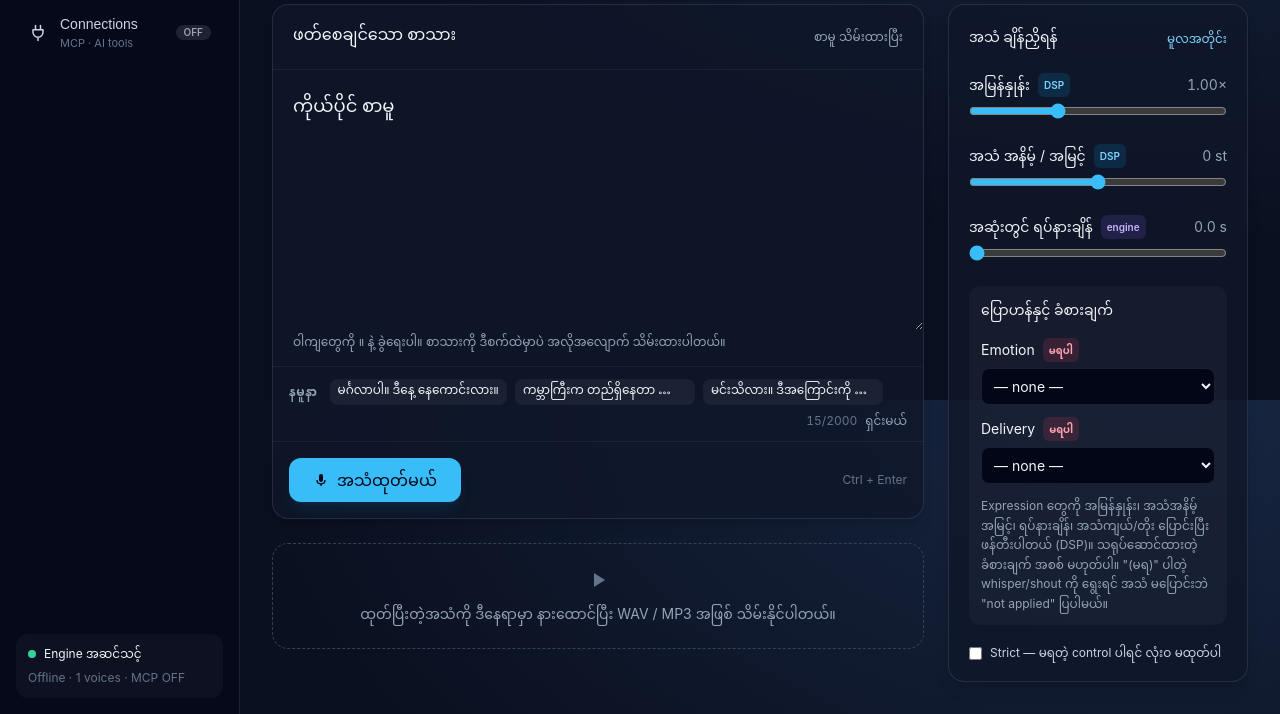
it: draft survives remount and clearing can be undone
The image size is (1280, 714).
Earlier steps of the test are not shown.
(page scrolled)
Check: the text box named "text" holds "ကိုယ်ပိုင် စာမူ", box [273,70,923,330]
Click the button "ရှင်းမယ်" at (886, 421), box [865,413,907,429]
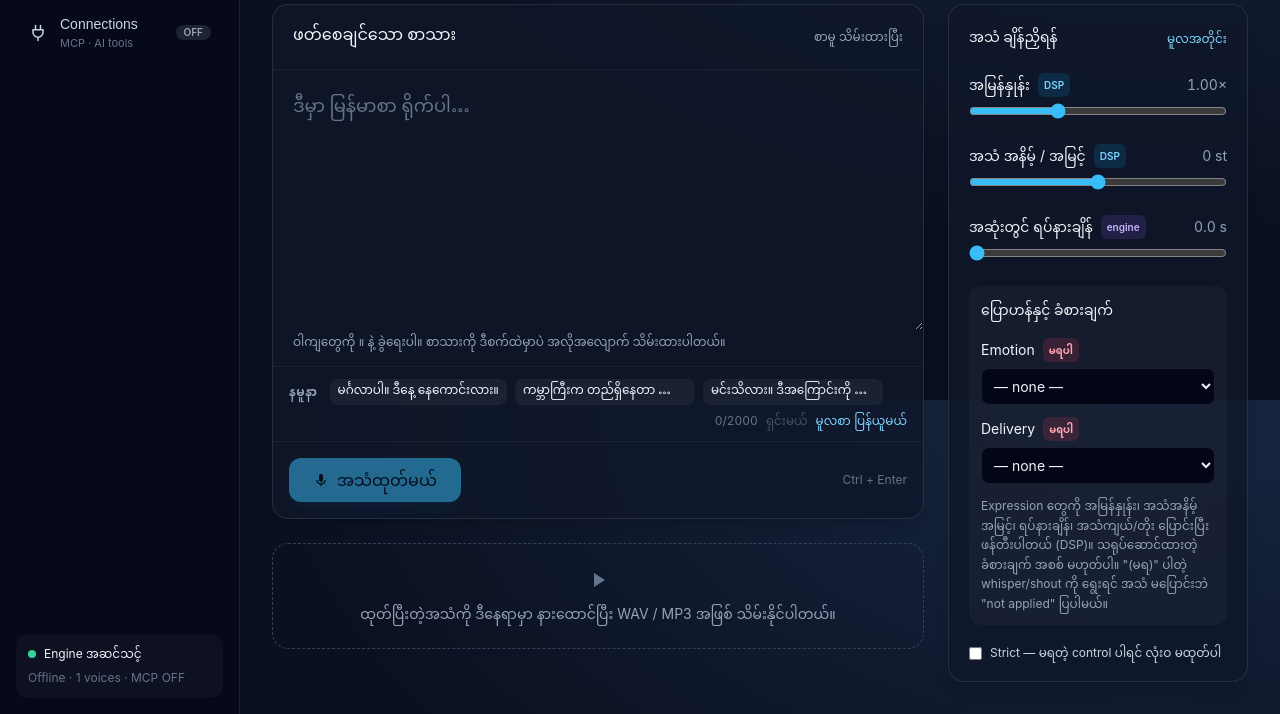
Check: the text box named "text" is empty, box [273,70,923,330]
Click the button "မူလစာ ပြန်ယူမယ်" at (861, 421), box [816,413,907,429]
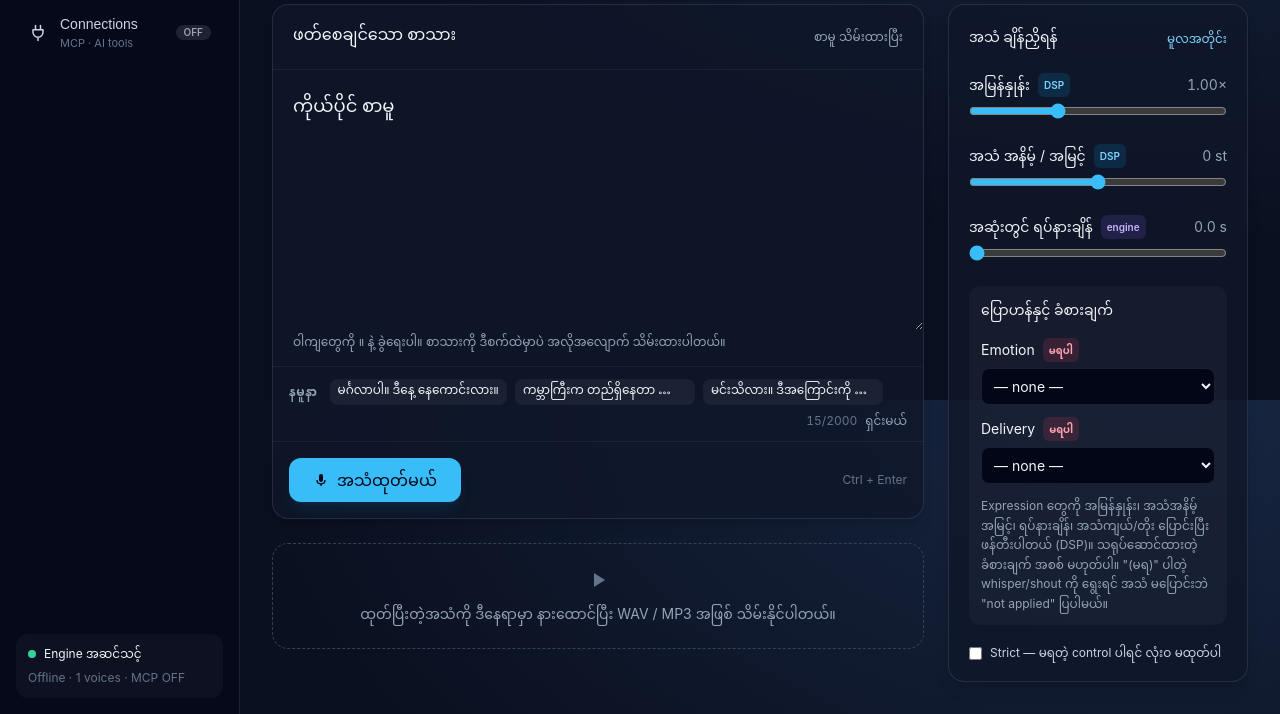
Check: the text box named "text" holds "ကိုယ်ပိုင် စာမူ", box [273,70,923,330]
